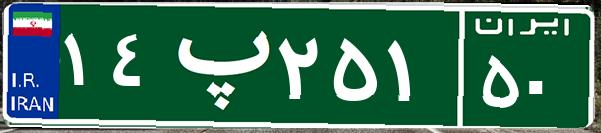0: (525, 38, 570, 115)
1: (385, 28, 445, 110), (57, 26, 110, 107)
2: (273, 28, 330, 110)
4: (110, 28, 158, 105)
5: (330, 28, 385, 110), (475, 38, 525, 113)
پ: (158, 15, 273, 115)
